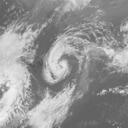cyclone: (43, 34, 82, 85)
